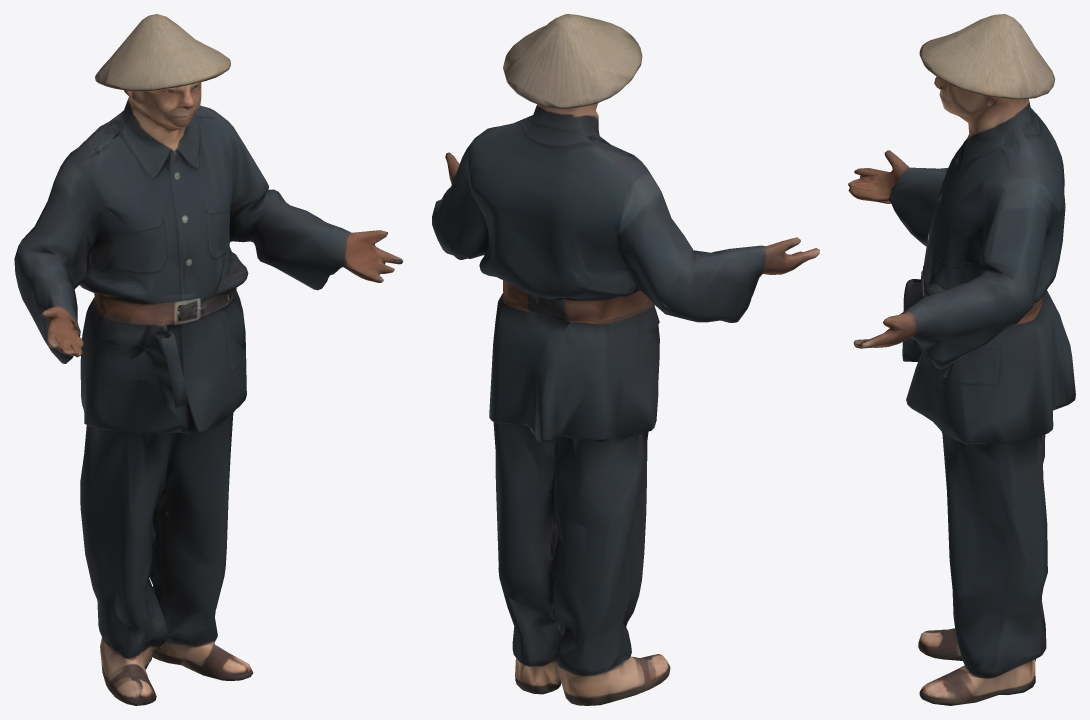
File: CanBo.glb
The picture shows the model from 3 angles, left to right: view 1: azimuth 30°, elevation 25°; view 2: azimuth 150°, elevation 25°; view 3: azimuth 270°, elevation 25°; orthographic projection. The views are drawn at different scales.
Bounding box in the file's own units: 1.14 × 2 × 0.6264.
Materials: 1 (1 with a texture image).
